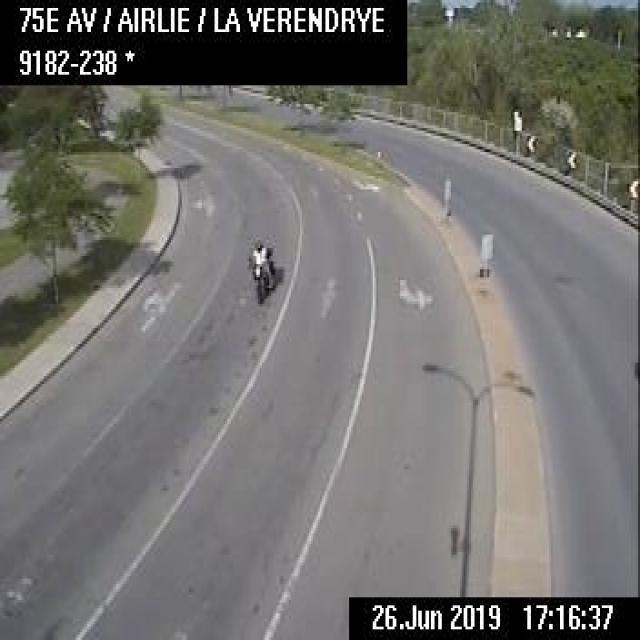vehicle: (244, 238, 278, 302)
